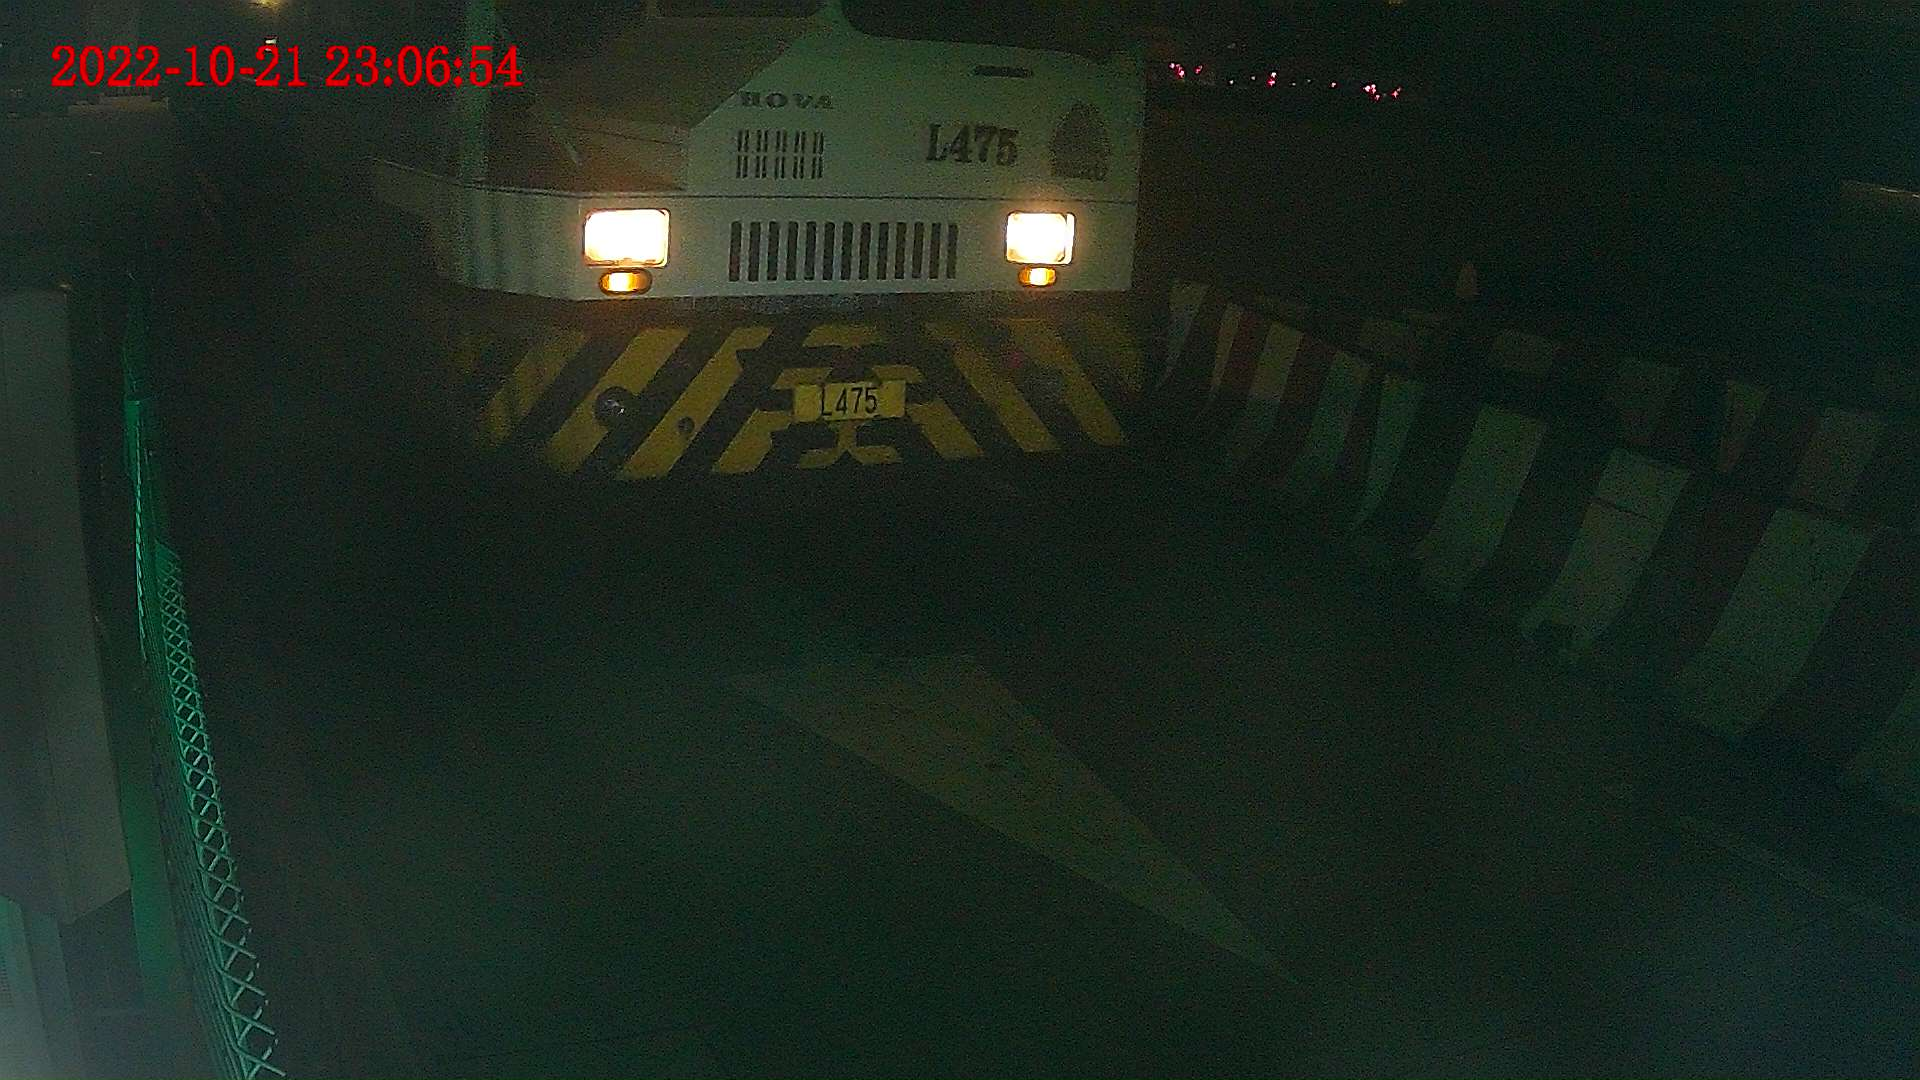head: (313, 1, 1146, 488)
plate: (787, 378, 906, 420)
